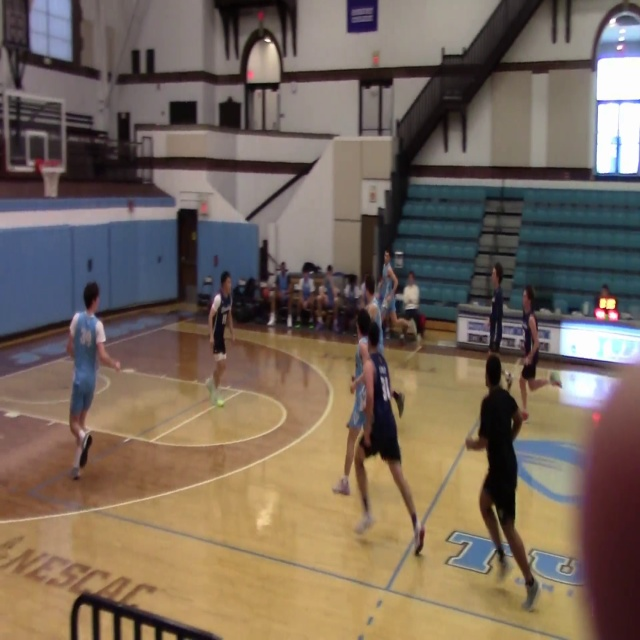Basketball: (549, 370, 562, 387), (520, 411, 528, 421), (216, 398, 224, 406)
